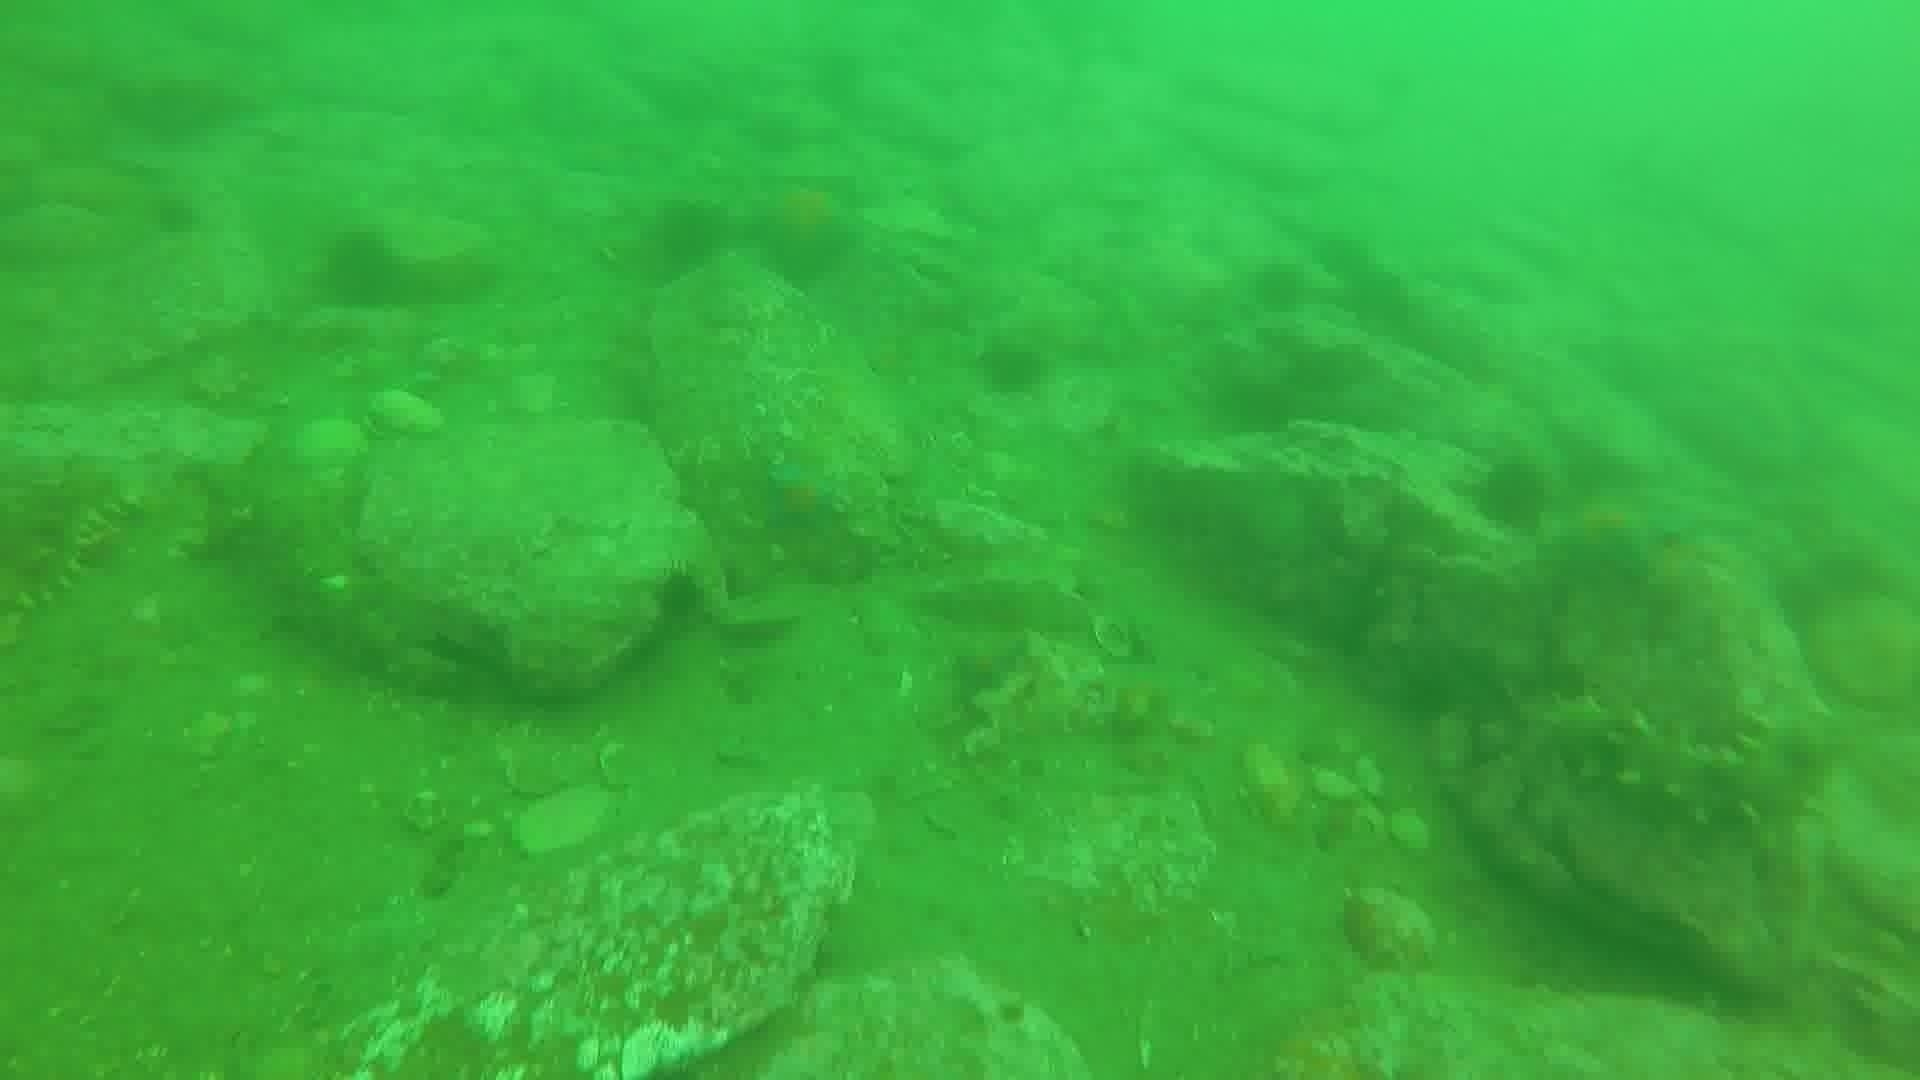echinus: (313, 227, 406, 314), (641, 195, 731, 278), (1468, 454, 1553, 537), (972, 334, 1051, 401), (647, 563, 713, 634), (144, 189, 206, 243)
holothurian: (1522, 694, 1832, 839), (1, 454, 127, 641)
starfish: (731, 164, 857, 284), (1544, 477, 1677, 587), (752, 444, 851, 539)
